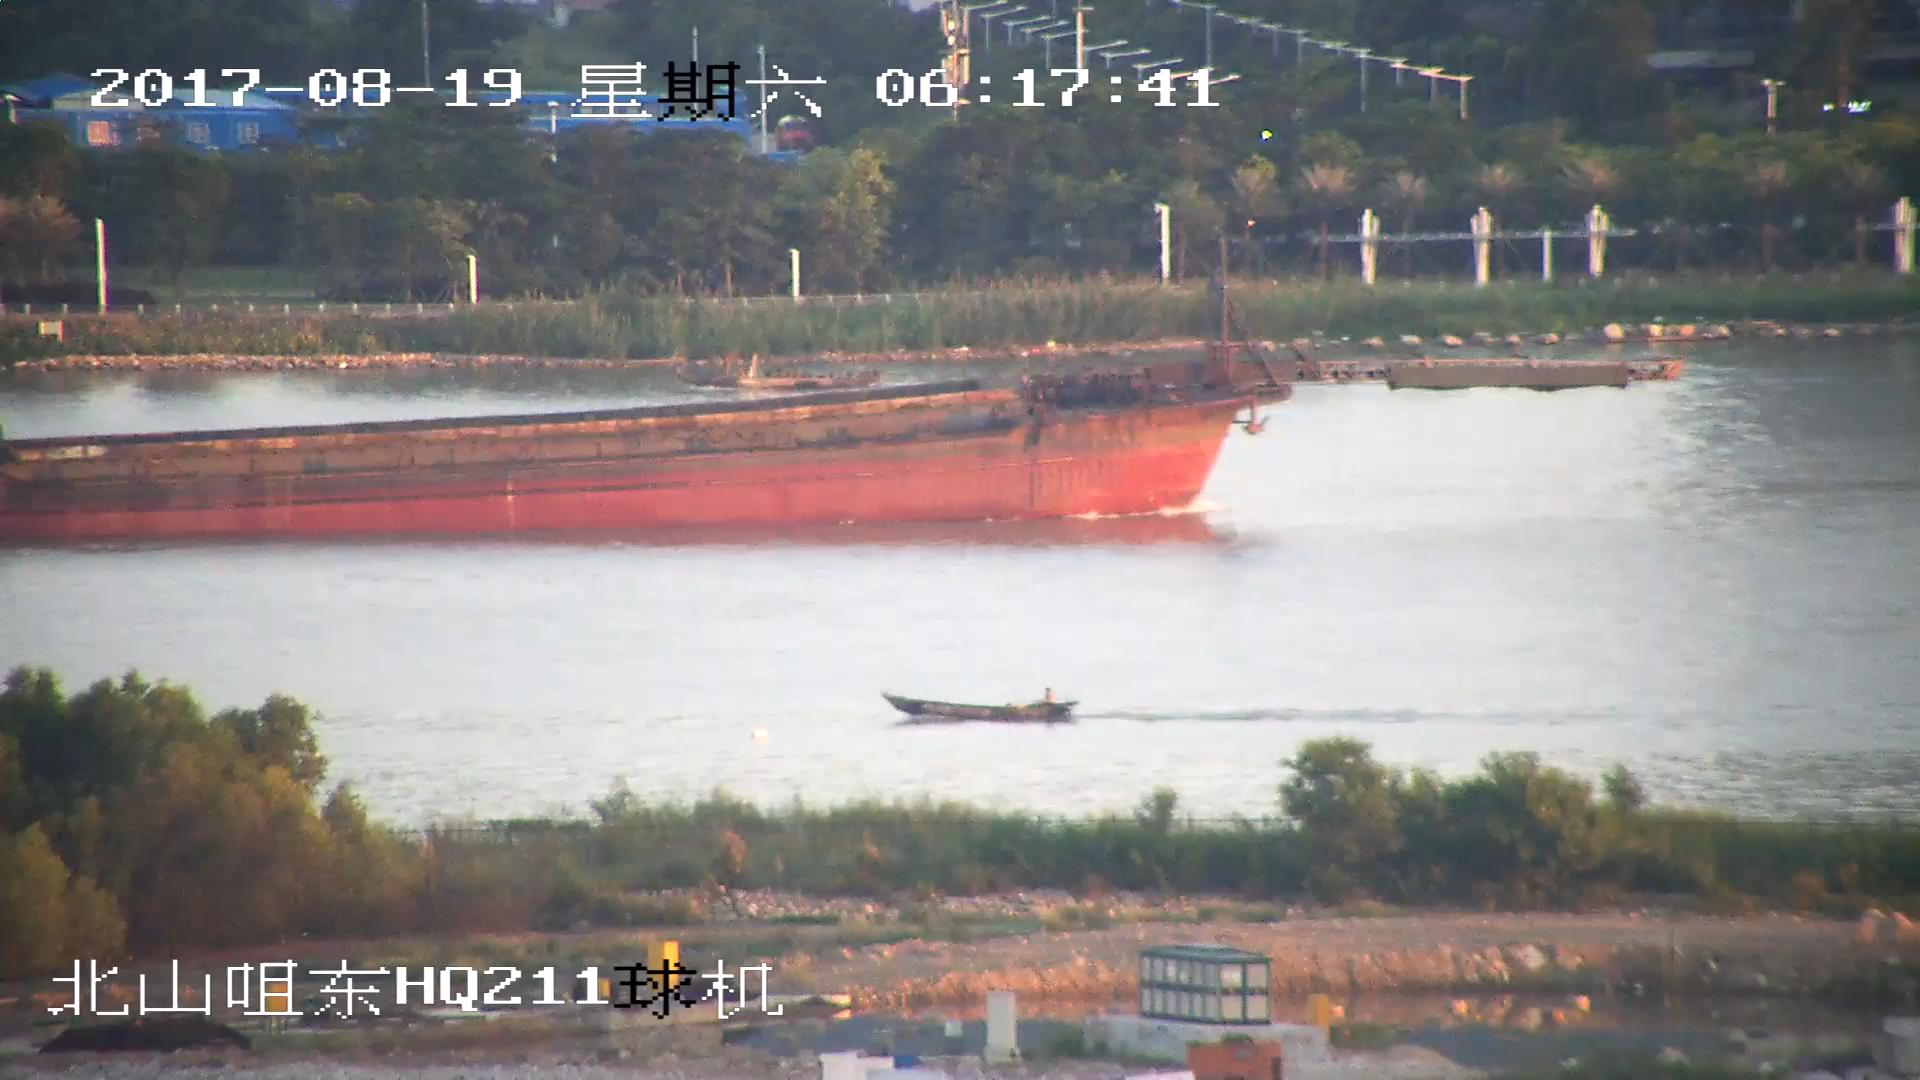bulk cargo carrier: (1, 240, 1671, 547)
fishing boat: (889, 686, 1078, 726)
